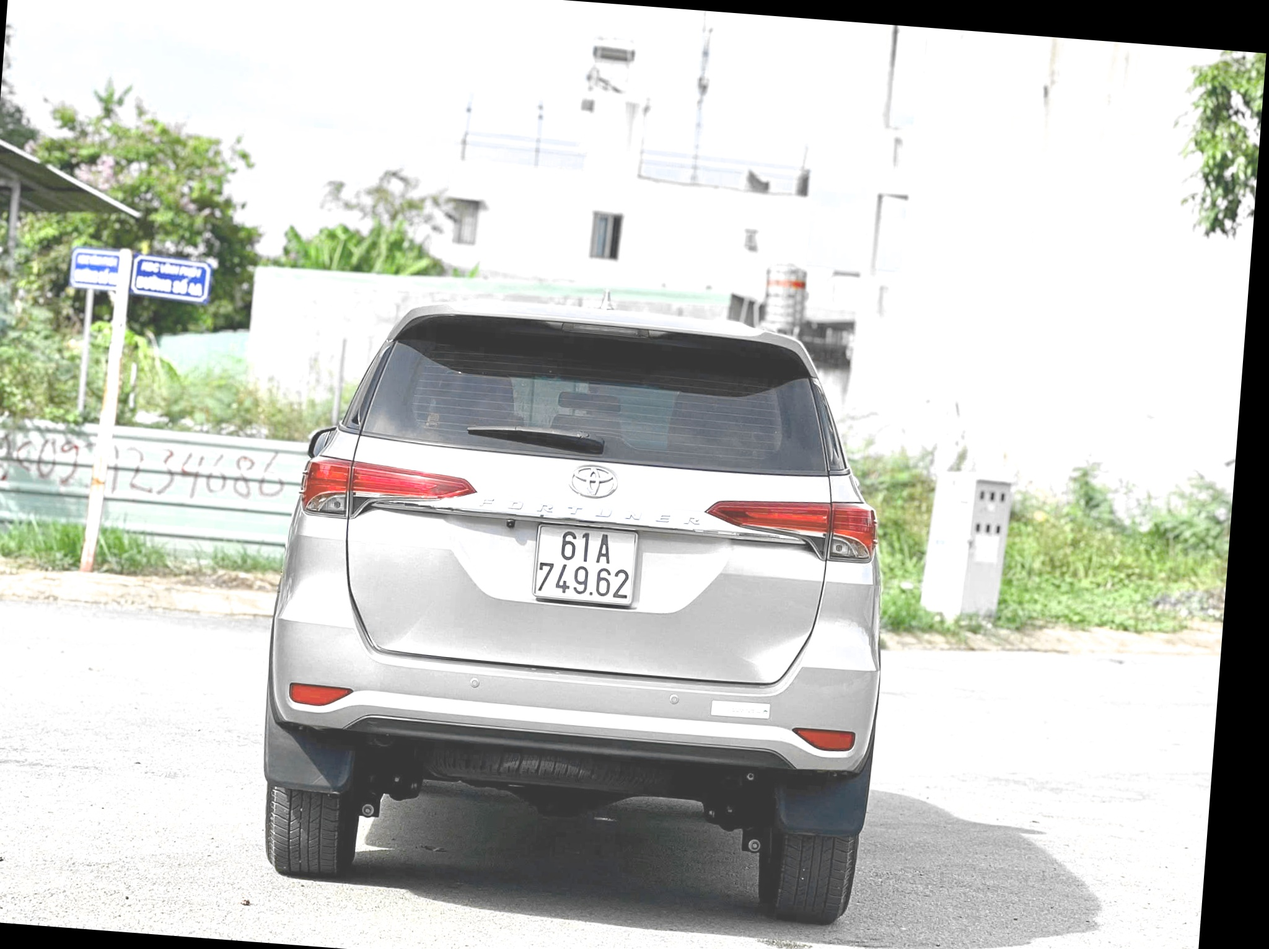Bien-so: (537, 522, 646, 612)
